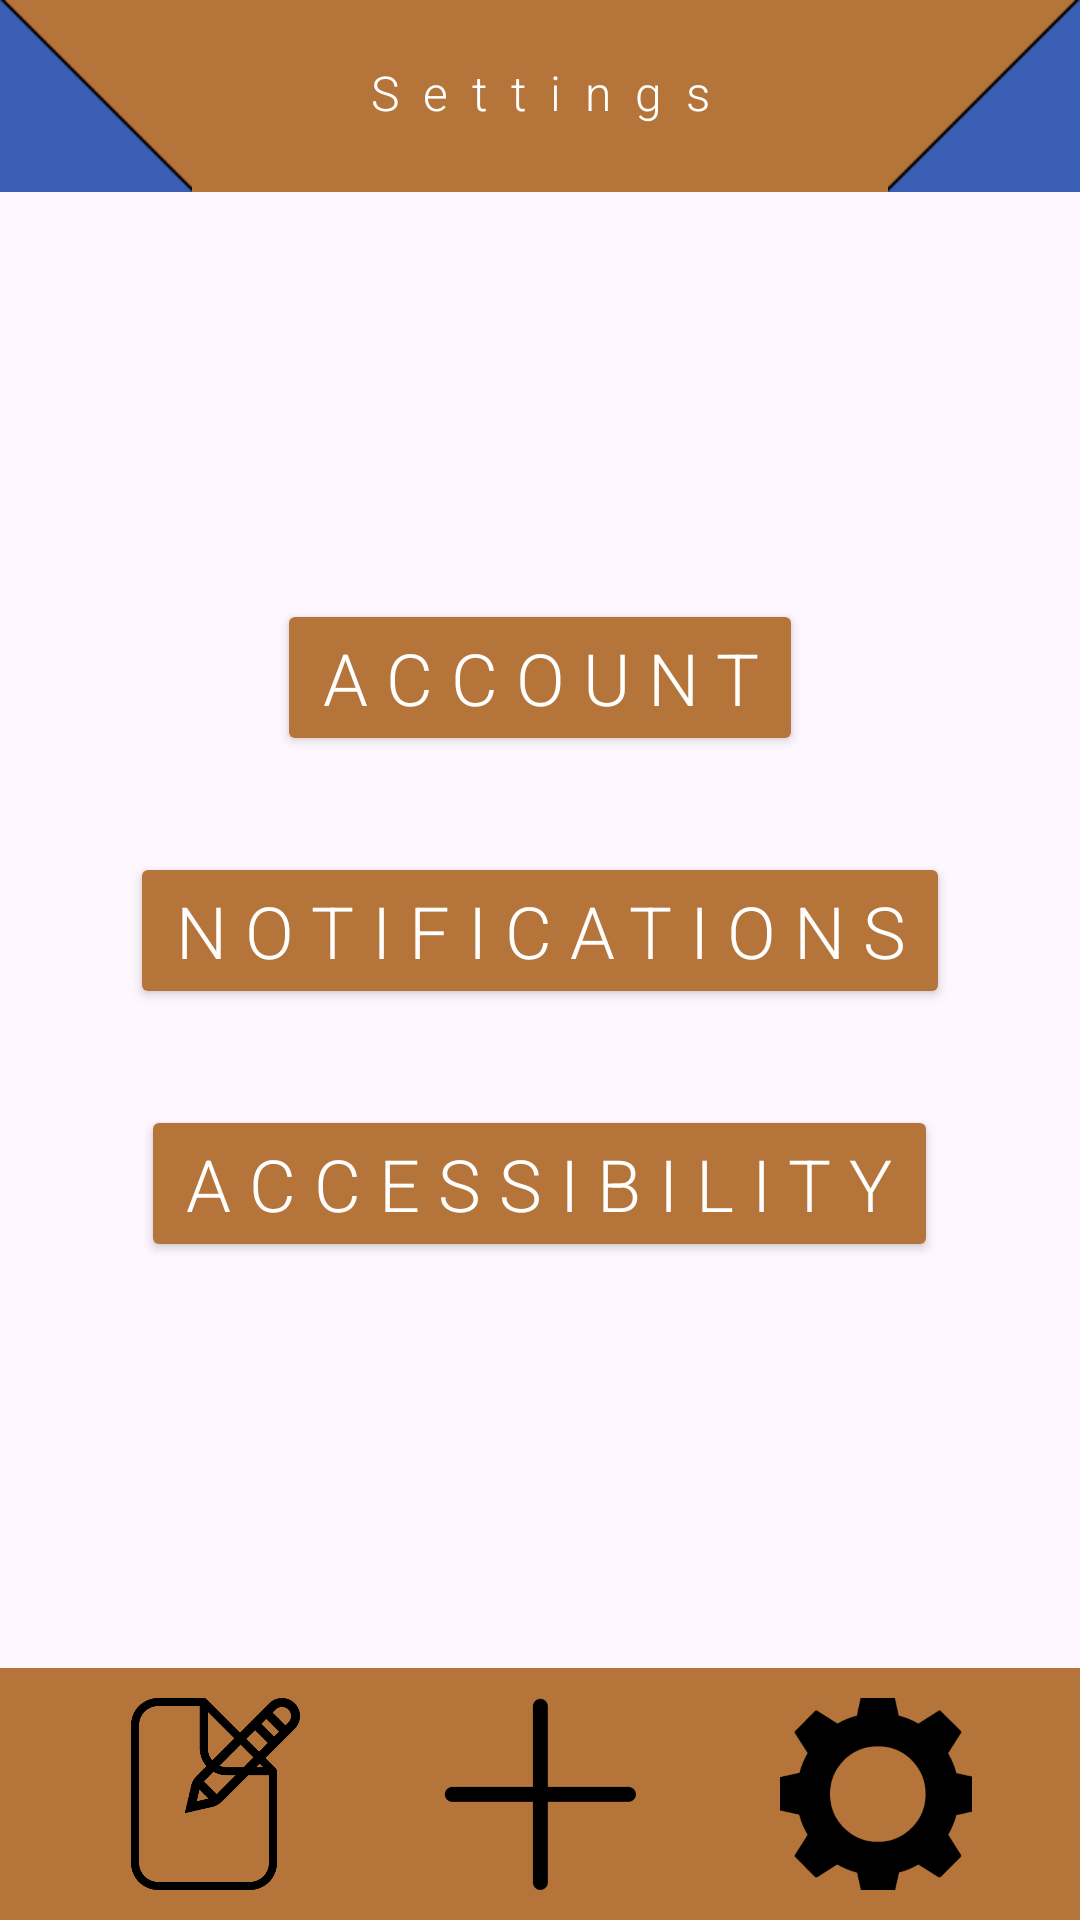

Icons on this 1080w x 1920h Android screen, each with its box as box(x1, y1, x2, y2):
create booking: box(444, 1698, 636, 1890)
settings: box(780, 1698, 972, 1890)
